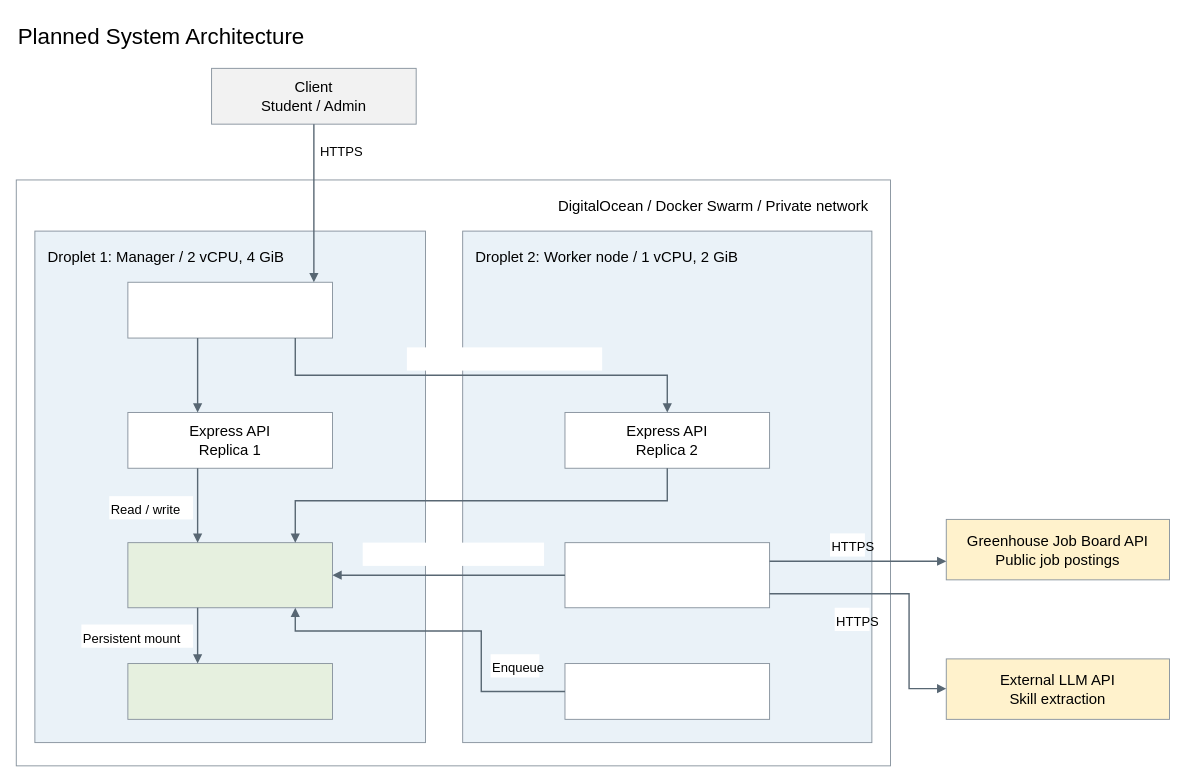
Some shapes in this 1186 by 782 pixel diagram are drawn without their labels. Here are the shapes that lost their labels. From the top down, the centre of each, then its label:
At pixel 229 309: "Nginx Frontend / HTTPS".
At pixel 504 358: "Swarm service load balancing".
At pixel 453 553: "Claim tasks / Save results".
At pixel 229 575: "PostgreSQL Jobs / Users / Task state".
At pixel 667 575: "Python Worker Collection / Extraction".
At pixel 229 691: "DigitalOcean Volume 20 GiB / PostgreSQL data".
At pixel 667 691: "Scheduler Create daily tasks".
